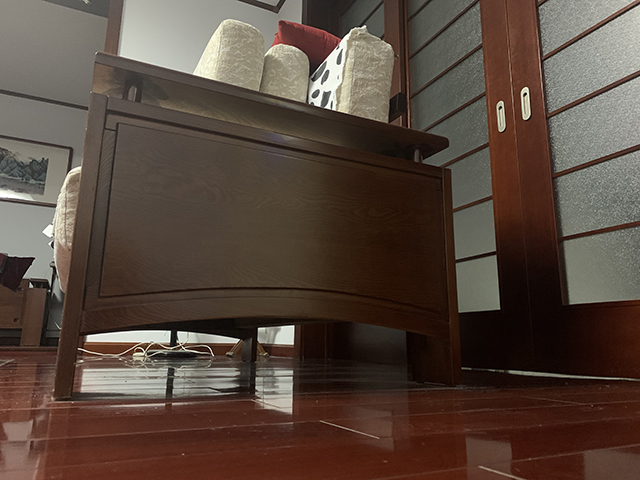sofa: (41, 20, 466, 402)
wire: (78, 332, 216, 363)
